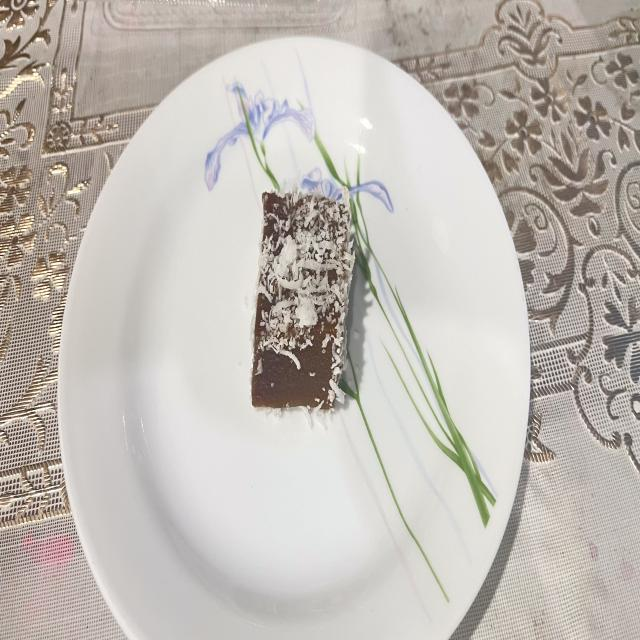kaswi: (251, 191, 354, 409)
